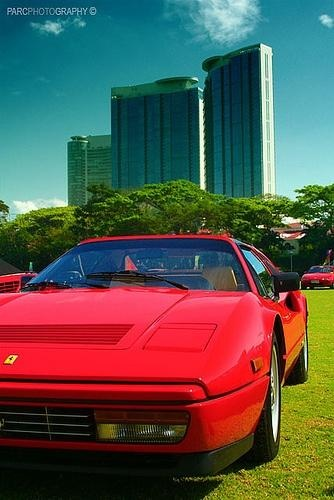car: (2, 233, 314, 479), (300, 259, 334, 291)
